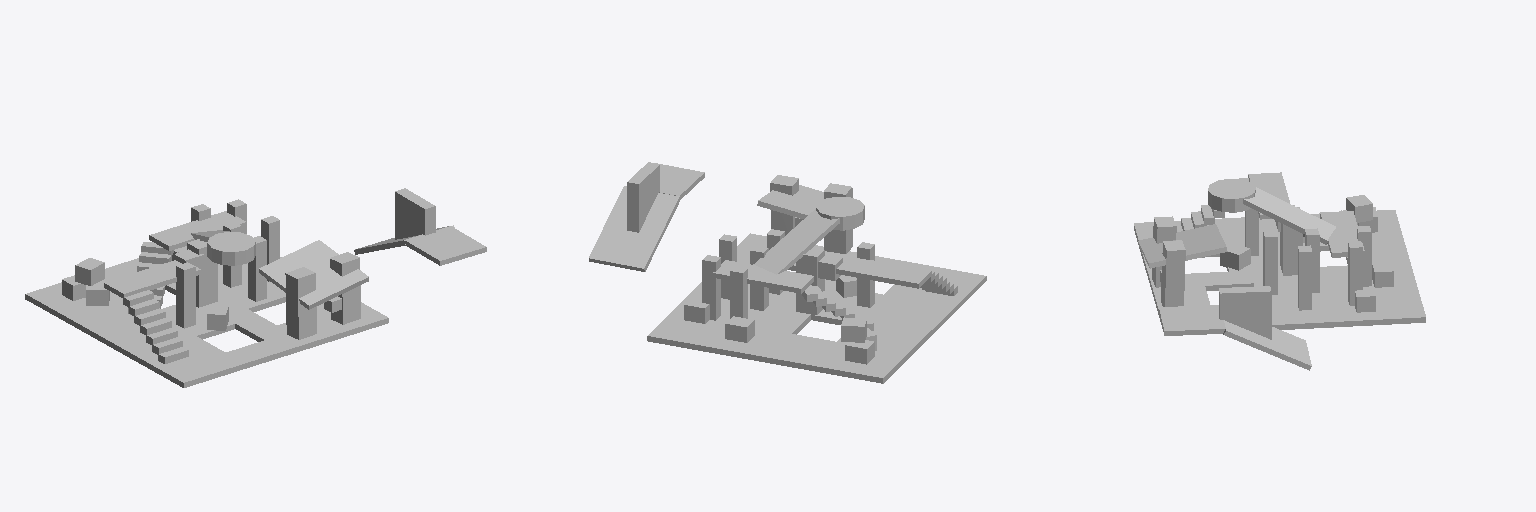
The model's file is nav_test.obj.
3 views of the same model, side by side, from view 1: azimuth 30°, elevation 25°; view 2: azimuth 150°, elevation 25°; view 3: azimuth 270°, elevation 25° (orthographic).
Visible parts, largest first — view 1: Generic; view 2: Generic; view 3: Generic.
Boxes of the visible parts, <box> form: Generic: <box>25,188,486,387</box>; Generic: <box>589,162,986,383</box>; Generic: <box>1134,172,1425,370</box>.
Bounding box in the file's own units: 78.31 × 18.8 × 57.38.